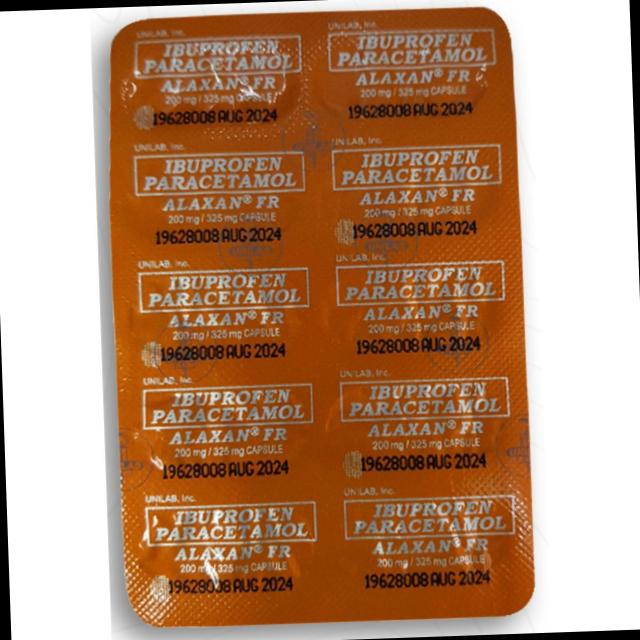blister: (104, 1, 542, 640)
